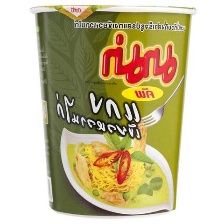paper_cup: (24, 0, 203, 224)
